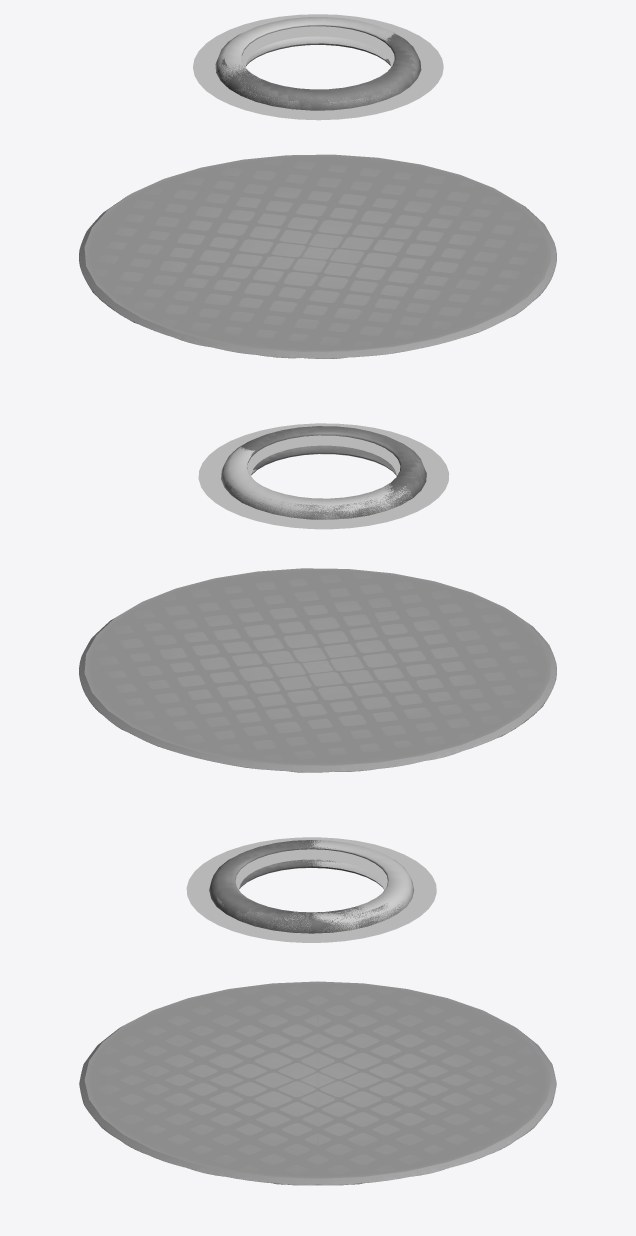
The model's file is pref_TPC_v2_mini_NeutralScoreArea03_orange_idle_lv3.fbx.
3 renders of one model, top to bottom at view 1: azimuth 30°, elevation 25°; view 2: azimuth 150°, elevation 25°; view 3: azimuth 270°, elevation 25°, orthographic.
Parts seen in each view (by area): view 1: sm_prop_platform06a_lv3, sm_fx_0037_ring_04_xz (2), sm_prop_platform06b_lv3, fresnel (2); view 2: sm_prop_platform06a_lv3, sm_fx_0037_ring_04_xz (2), sm_prop_platform06b_lv3, fresnel (2); view 3: sm_prop_platform06a_lv3, sm_fx_0037_ring_04_xz (2), sm_prop_platform06b_lv3, fresnel (2).
Boxes of the visible parts, <box> form: sm_prop_platform06a_lv3: <box>79,154,556,358</box>; sm_fx_0037_ring_04_xz (2): <box>193,14,443,120</box>; sm_prop_platform06b_lv3: <box>216,25,421,110</box>; fresnel (2): <box>215,17,400,108</box>; sm_prop_platform06a_lv3: <box>79,568,556,772</box>; sm_fx_0037_ring_04_xz (2): <box>198,423,449,529</box>; sm_prop_platform06b_lv3: <box>225,426,426,519</box>; fresnel (2): <box>221,446,412,519</box>; sm_prop_platform06a_lv3: <box>79,981,556,1185</box>; sm_fx_0037_ring_04_xz (2): <box>186,837,436,942</box>; sm_prop_platform06b_lv3: <box>209,840,406,933</box>; fresnel (2): <box>217,840,414,932</box>.
Bounding box in the file's own units: 7.46 × 2.88 × 7.46.
Materials: 4 (2 with a texture image).
